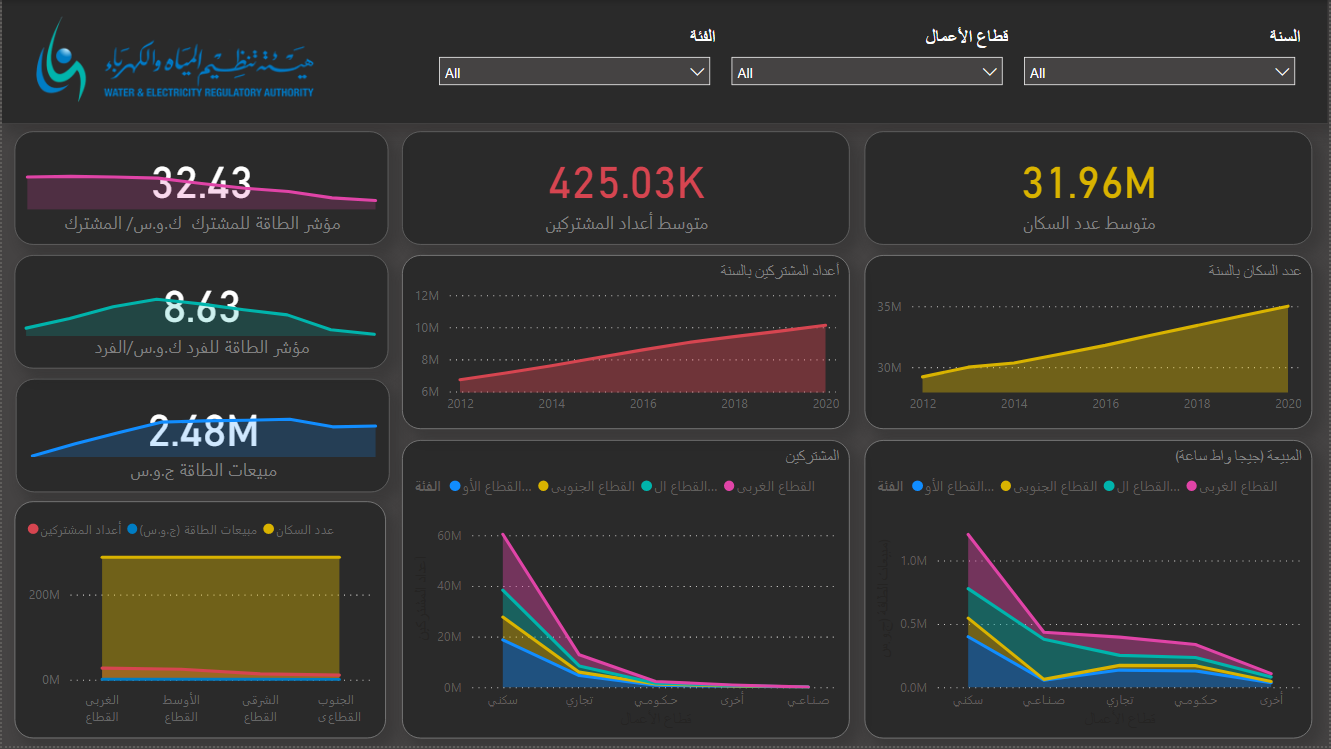

The dashboard page shown, as its layout file describes it:
{"tool":"powerbi","page":{"name":"Dashboard","canvas":[1280,720],"ordinal":0},"visuals":[{"type":"shape","box":[0,0,1279.6,119.4],"z":0},{"type":"image","box":[0,0,119.4,119.4],"z":1000},{"type":"card","fields":{"Values":["Avg(أعداد المشتركين.أعداد المشتركين)"]},"box":[385.9,126.6,431.8,109.7],"z":2000},{"type":"card","fields":{"Values":["Sum(الطاقة المبيعة (جيجا واط ساعة).مبيعات الطاقة (ج.و.س))"]},"box":[13.3,365.4,360.6,109.7],"z":3000},{"type":"card","fields":{"Values":["Avg(عدد السكان.عدد السكان)"]},"box":[832.2,126.6,431.8,109.7],"z":4000},{"type":"slicer","title":"السنة","fields":{"Values":["عدد السكان.السنة"]},"box":[975.7,25.3,282.2,69.9],"z":5000},{"type":"slicer","title":"قطاع الأعمال","fields":{"Values":["قطاع الأعمال.قطاع الأعمال"]},"box":[693.5,25.3,282.2,69.9],"z":6000},{"type":"areaChart","fields":{"Category":["الفئة.الفئة"],"Y":["Sum(أعداد المشتركين.أعداد المشتركين)","Sum(الطاقة المبيعة (جيجا واط ساعة).مبيعات الطاقة (ج.و.س))","Sum(عدد السكان.عدد السكان)"]},"box":[12.1,483.6,358.2,229.1],"z":7000},{"type":"areaChart","title":"عدد السكان بالسنة","fields":{"Category":["عدد السكان.السنة"],"Y":["Sum(عدد السكان.عدد السكان)"]},"box":[832.2,246,431.8,167.6],"z":8000},{"type":"slicer","title":"الفئة","fields":{"Values":["الفئة.الفئة"]},"box":[411.3,25.3,282.2,69.9],"z":9000},{"type":"stackedAreaChart","title":"المبيعة (جيجا واط ساعة)","fields":{"Y":["Sum(الطاقة المبيعة (جيجا واط ساعة).مبيعات الطاقة (ج.و.س))"],"Category":["الطاقة المبيعة (جيجا واط ساعة).قطاع الأعمال"],"Series":["الطاقة المبيعة (جيجا واط ساعة).الفئة"]},"box":[832.2,424.5,431.8,288.2],"z":10000},{"type":"stackedAreaChart","title":"المشتركين","fields":{"Y":["Sum(أعداد المشتركين.أعداد المشتركين)"],"Series":["أعداد المشتركين.الفئة"],"Category":["أعداد المشتركين.قطاع الأعمال"]},"box":[385.9,424.5,431.8,288.2],"z":12000},{"type":"image","box":[88,25.3,224.3,89.2],"z":13000},{"type":"card","fields":{"Values":["الطاقة المبيعة (جيجا واط ساعة).مؤشر الطاقة للفرد (ك.و.س/الفرد)"]},"box":[12.1,126.4,360.6,109.7],"z":14000},{"type":"card","fields":{"Values":["الطاقة المبيعة (جيجا واط ساعة).مؤشر الطاقة للفرد (ك.و.س/الفرد)"]},"box":[12.1,245.8,360.6,109.7],"z":15000},{"type":"areaChart","title":"عدد السكان بالسنة","fields":{"Category":["عدد السكان.السنة"],"Y":["Sum(الطاقة المبيعة (جيجا واط ساعة).مبيعات الطاقة (ج.و.س))"]},"box":[14.5,383.5,360.6,62.7],"z":16000},{"type":"areaChart","title":"عدد السكان بالسنة","fields":{"Category":["عدد السكان.السنة"],"Y":["الطاقة المبيعة (جيجا واط ساعة).مؤشر الطاقة للفرد (ك.و.س/الفرد)"]},"box":[8.4,266.3,365.4,62.7],"z":17000},{"type":"areaChart","title":"عدد السكان بالسنة","fields":{"Category":["عدد السكان.السنة"],"Y":["الطاقة المبيعة (جيجا واط ساعة).مؤشر الطاقة للمشترك ( ك.و.س/ المشترك)"]},"box":[9.6,144.5,365.4,62.7],"z":18000},{"type":"areaChart","title":"أعداد المشتركين بالسنة","fields":{"Category":["عدد السكان.السنة"],"Y":["Sum(أعداد المشتركين.أعداد المشتركين)"]},"box":[385.9,246,431.8,167.6],"z":19000}]}

Visuals, with their boxes in screenshot pixels (x1, y1, x2, y2), scaled from the page's 1280x720 canvas onto the 1331x749 screenshot:
shape: 0/0/1330/124
image: 0/0/124/124
card - Avg(أعداد المشتركين.أعداد المشتركين): 401/132/850/246
card - Sum(الطاقة المبيعة (جيجا واط ساعة).مبيعات الطاقة (ج.و.س)): 14/380/389/494
card - Avg(عدد السكان.عدد السكان): 865/132/1314/246
"السنة" slicer: 1015/26/1308/99
"قطاع الأعمال" slicer: 721/26/1015/99
areaChart - الفئة.الفئة x Sum(أعداد المشتركين.أعداد المشتركين): 13/503/385/741
"عدد السكان بالسنة" areaChart: 865/256/1314/430
"الفئة" slicer: 428/26/721/99
"المبيعة (جيجا واط ساعة)" stackedAreaChart: 865/442/1314/741
"المشتركين" stackedAreaChart: 401/442/850/741
image: 92/26/325/119
card - الطاقة المبيعة (جيجا واط ساعة).مؤشر الطاقة للفرد (ك.و.س/الفرد): 13/131/388/246
card - الطاقة المبيعة (جيجا واط ساعة).مؤشر الطاقة للفرد (ك.و.س/الفرد): 13/256/388/370
"عدد السكان بالسنة" areaChart: 15/399/390/464
"عدد السكان بالسنة" areaChart: 9/277/389/342
"عدد السكان بالسنة" areaChart: 10/150/390/216
"أعداد المشتركين بالسنة" areaChart: 401/256/850/430
